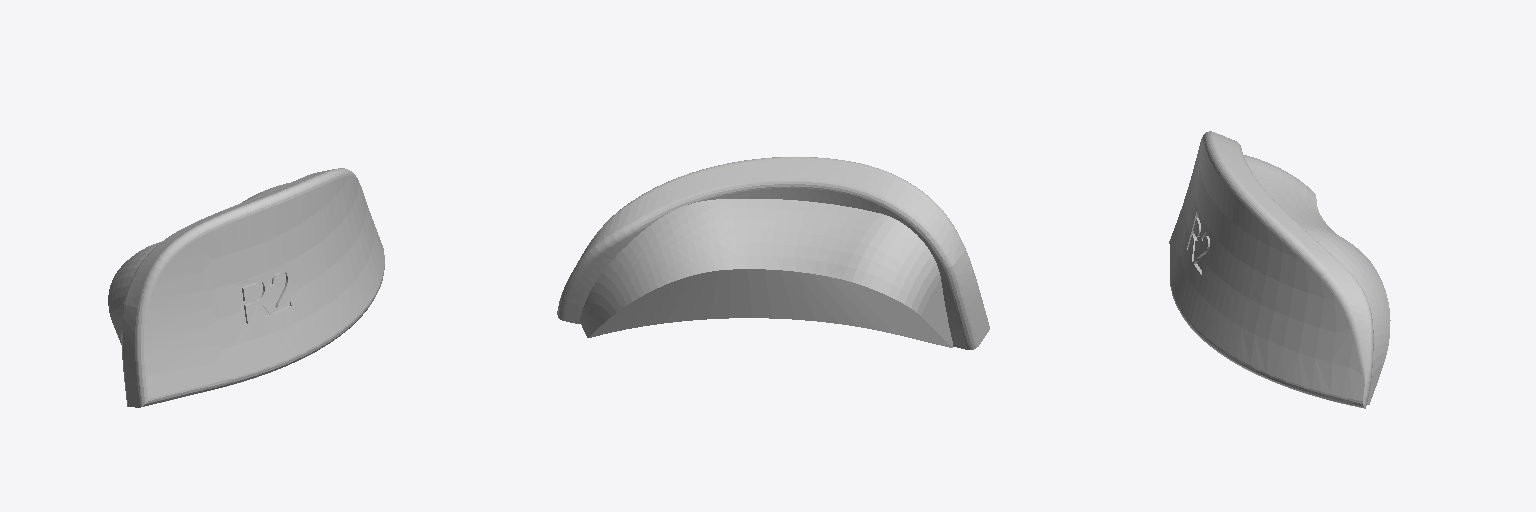
The model's file is Shoulder-Right-Trigger.obj.
The picture shows the model from 3 angles: view 1: azimuth 30°, elevation 25°; view 2: azimuth 150°, elevation 25°; view 3: azimuth 270°, elevation 25°; orthographic projection.
Visible parts, largest first — view 1: Shoulder-Right-Trigger; view 2: Shoulder-Right-Trigger; view 3: Shoulder-Right-Trigger.
Part boxes in pixels (bbox=[...]): Shoulder-Right-Trigger: bbox=[108, 168, 384, 407]; Shoulder-Right-Trigger: bbox=[557, 157, 989, 349]; Shoulder-Right-Trigger: bbox=[1169, 131, 1390, 408].
Size of the model in its own units: 24.45 by 11.44 by 13.84.